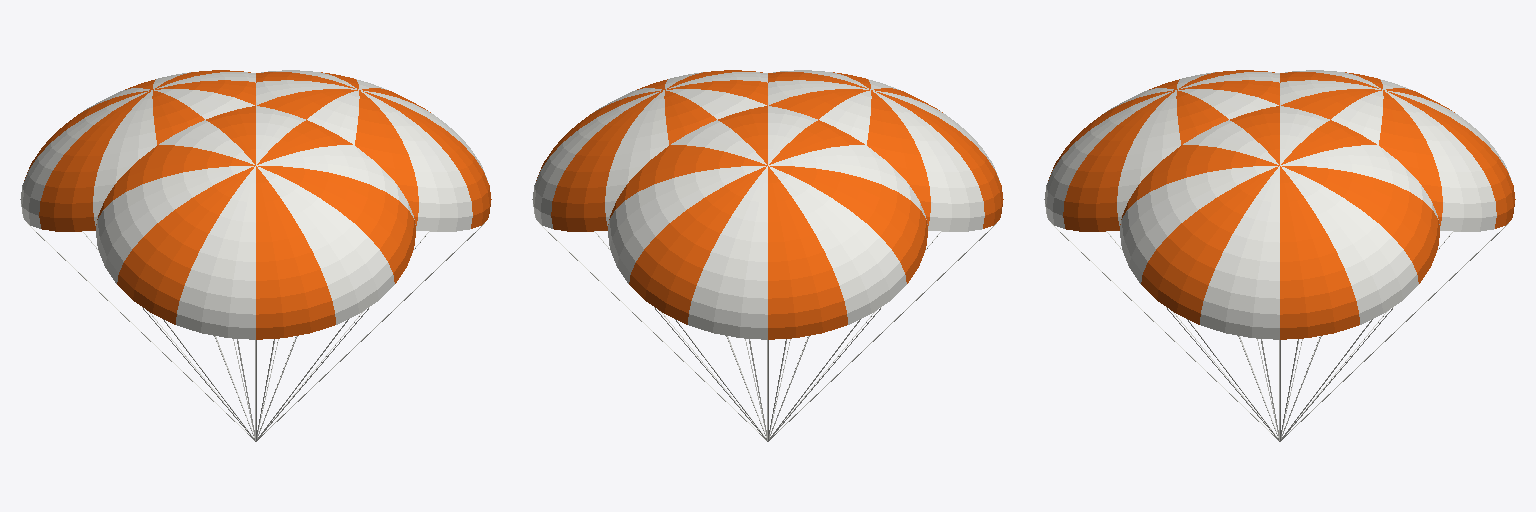
The robot description file, URDF, robot "chutes":
<?xml version="1.0"?>
<!-- Three main parachutes of the CM, 25.4 m wide, at scale -->
<robot name="chutes">
  <link name="base">
    <visual>
      <origin xyz="0 0 0" rpy="0 0 0"/>
      <geometry><mesh filename="meshes/chutes_orange.stl"/></geometry>
      <material name="base_0"><color rgba="0.950 0.450 0.120 1"/></material>
    </visual>
    <visual>
      <origin xyz="0 0 0" rpy="0 0 0"/>
      <geometry><mesh filename="meshes/chutes_white.stl"/></geometry>
      <material name="base_1"><color rgba="0.920 0.920 0.900 1"/></material>
    </visual>
    <inertial><mass value="1"/><origin xyz="0 0 0"/><inertia ixx="1" ixy="0" ixz="0" iyy="1" iyz="0" izz="1"/></inertial>
  </link>
</robot>

--- Render facts (derived) ---
The picture shows the robot from 3 angles, left to right: view 1: azimuth 30°, elevation 25°; view 2: azimuth 150°, elevation 25°; view 3: azimuth 270°, elevation 25°; orthographic projection.
Model chutes with 1 links and 0 joints (none), rooted at base, posed every joint at zero.
Visible links, largest first — view 1: base; view 2: base; view 3: base.
Boxes of the visible links, bbox=[...] form: base: bbox=[20, 70, 491, 441]; base: bbox=[532, 70, 1003, 441]; base: bbox=[1044, 70, 1515, 441].
Size in the robot's own frame: 35.67 by 37.27 by 29.6 metres.
Meshes: 2 distinct files referenced, 2 mesh visuals loaded (2 binary STL).
